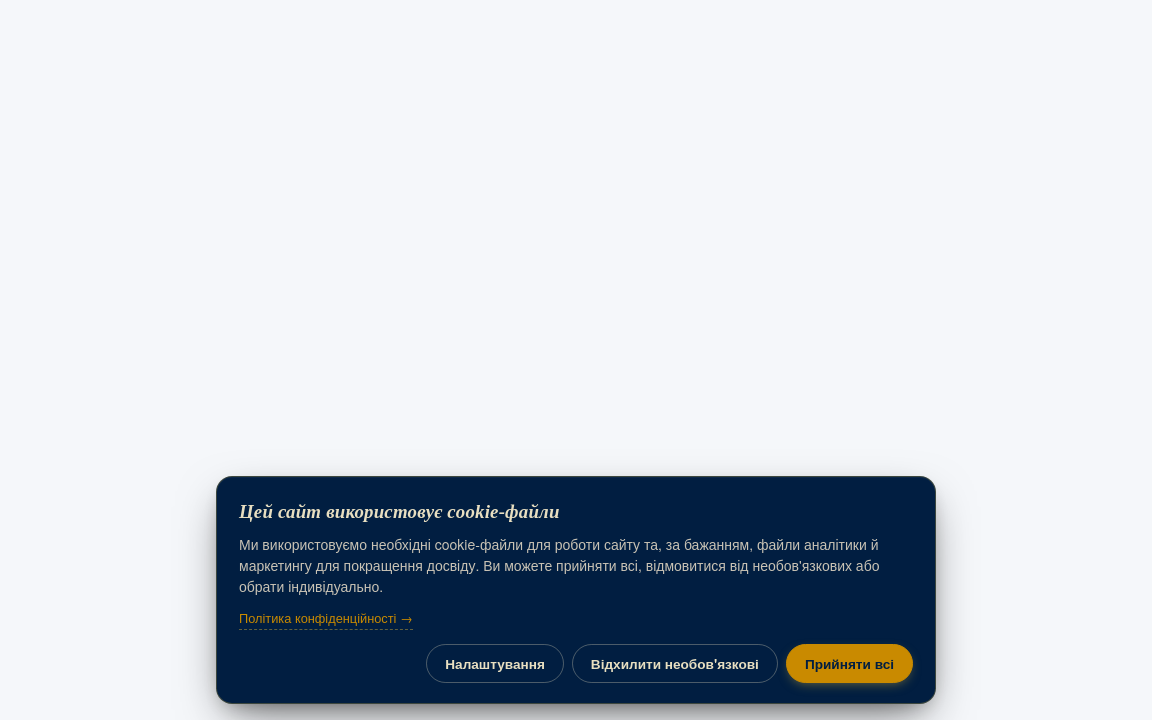
Test: cookie consent › custom selection › necessary cookies cannot be switched off
The image size is (1152, 720).
Click the button "Налаштування" at (495, 664), box [426,644,564,683]
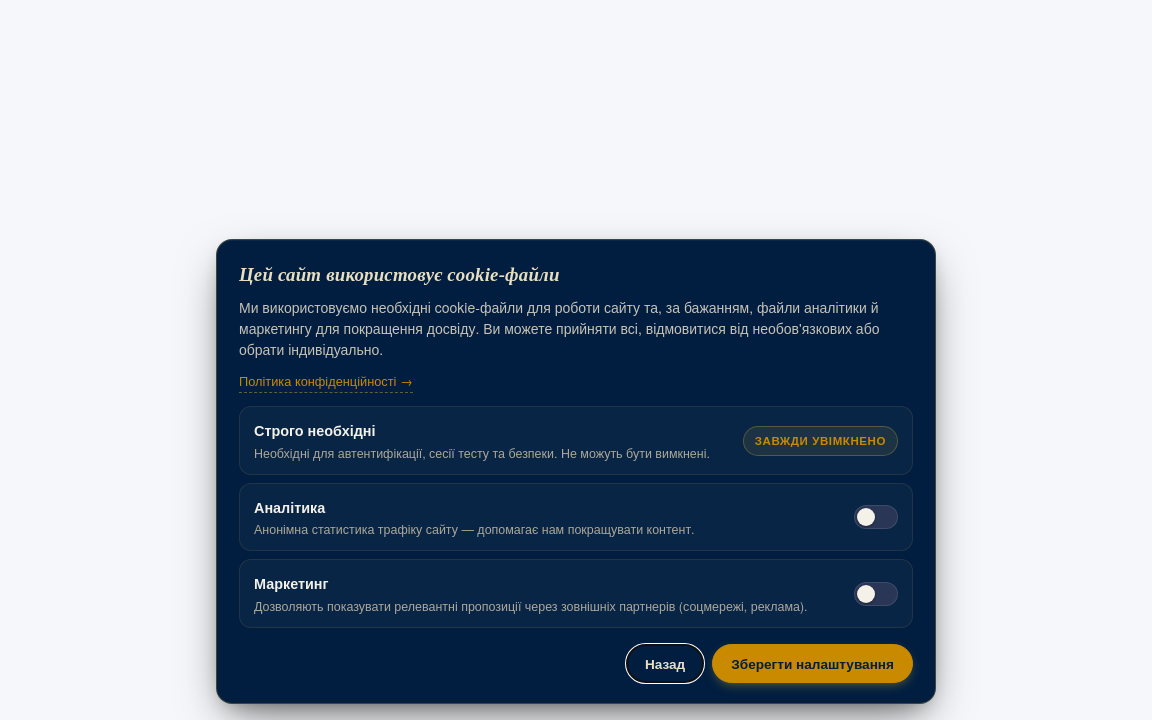
Now the number of switches is 2, box [854,505,898,529]; [854,582,898,606]
Now the text "Завжди увімкнено" is shown, box [743,426,898,456]
